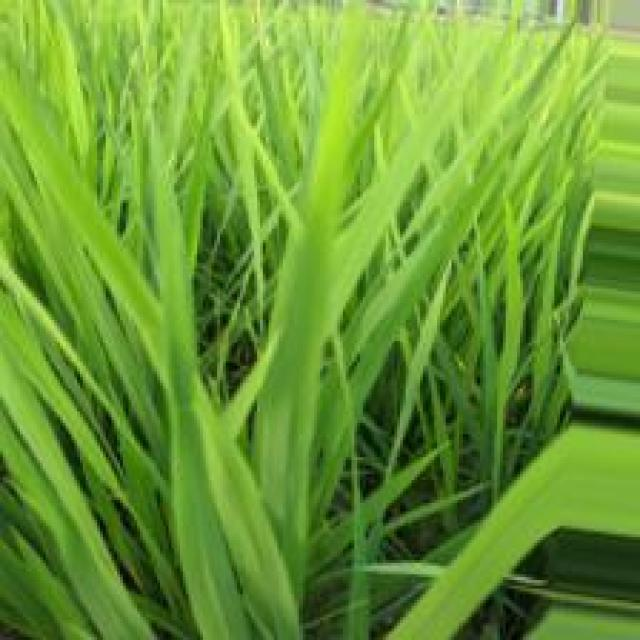HealthyLeaf: (218, 473, 293, 612), (177, 500, 242, 637), (257, 307, 316, 453), (46, 168, 117, 255)
